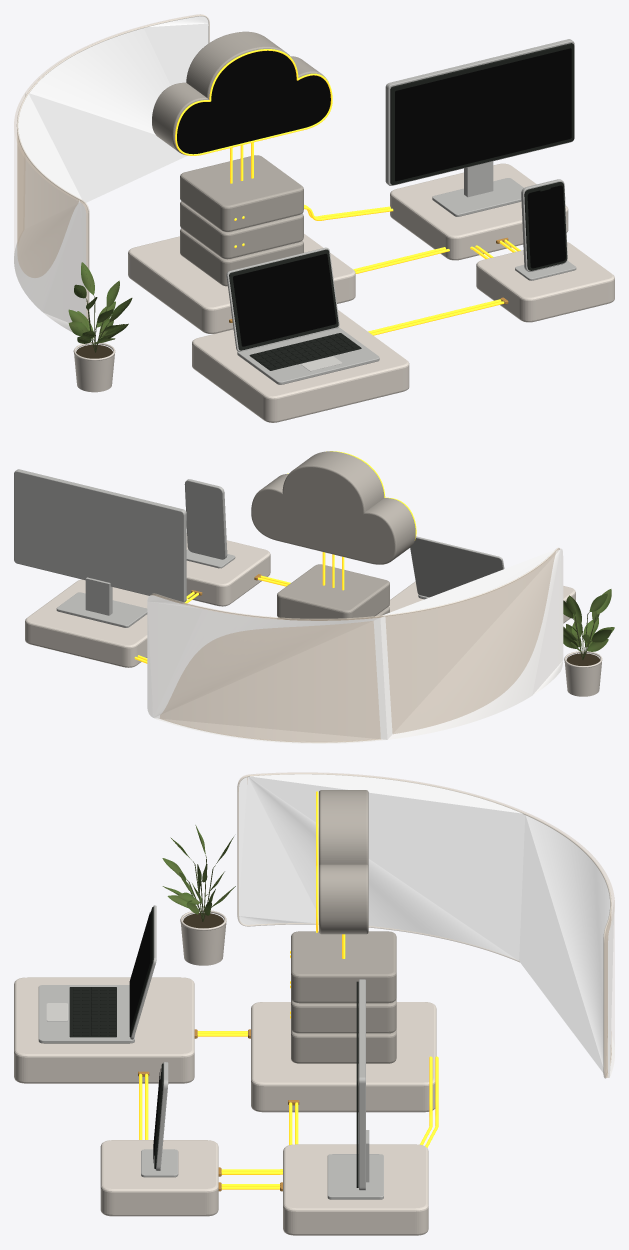
Rendered from cloud.2b49912a117b.glb.
3 views of the same model, one above another, from view 1: azimuth 30°, elevation 25°; view 2: azimuth 150°, elevation 25°; view 3: azimuth 270°, elevation 25° (orthographic). The views are drawn at different scales.
Bounding box in the file's own units: 14.86 × 6.05 × 12.
Materials: 22 (6 with a texture image).
